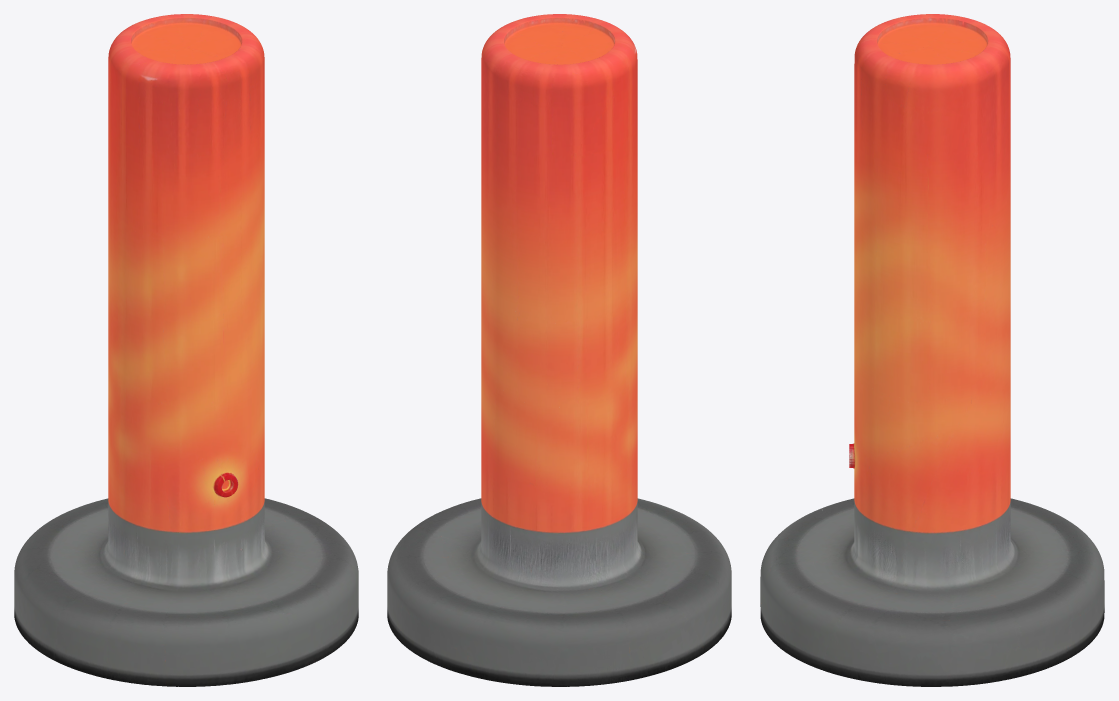
The model's file is lumi.glb.
3 views of the same model, side by side, from view 1: azimuth 30°, elevation 25°; view 2: azimuth 150°, elevation 25°; view 3: azimuth 270°, elevation 25° (orthographic).
Parts seen in each view (by area): view 1: Mesh_0; view 2: Mesh_0; view 3: Mesh_0.
Boxes of the visible parts, x1,y1,x2,y2 form: Mesh_0: [14, 14, 358, 686]; Mesh_0: [387, 14, 731, 686]; Mesh_0: [760, 14, 1104, 686].
Bounding box in the file's own units: 0.899 × 1.66 × 0.899.
Materials: 1 (1 with a texture image).
